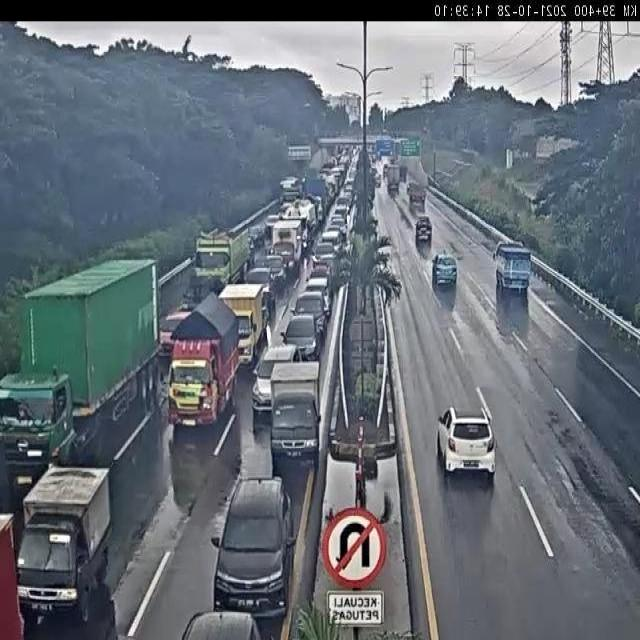Car: (214, 478, 303, 610), (433, 406, 498, 483), (252, 342, 296, 410), (282, 313, 320, 363), (304, 270, 332, 314), (432, 253, 458, 288), (314, 240, 337, 265), (415, 217, 432, 245), (373, 173, 381, 188)
Truck: (0, 257, 159, 475), (12, 460, 118, 616), (154, 302, 242, 429), (262, 361, 326, 465), (194, 225, 252, 298), (269, 216, 307, 278), (494, 243, 532, 295), (302, 176, 328, 216), (408, 184, 427, 214), (385, 164, 401, 196)
